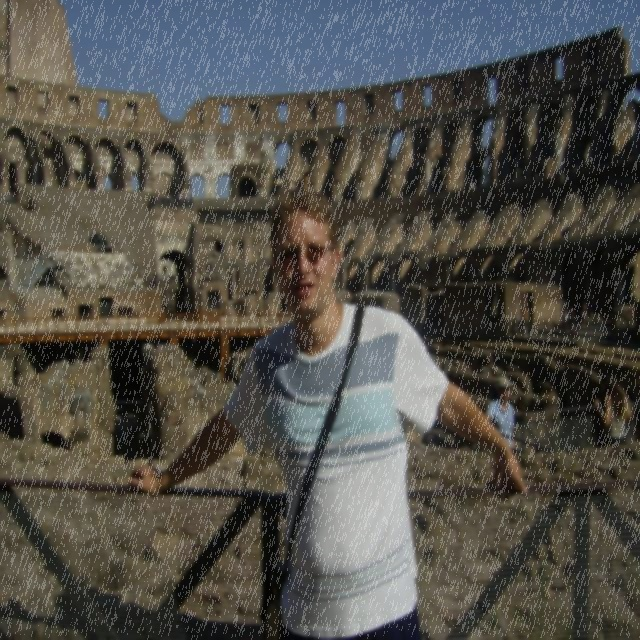pessoa: (118, 183, 530, 640), (485, 374, 519, 492), (594, 369, 632, 448), (150, 191, 192, 209), (568, 307, 576, 339), (560, 310, 566, 339), (524, 306, 530, 334), (582, 301, 588, 326), (549, 170, 554, 184), (469, 180, 474, 194), (518, 311, 524, 321), (471, 182, 476, 193), (522, 313, 526, 322)
